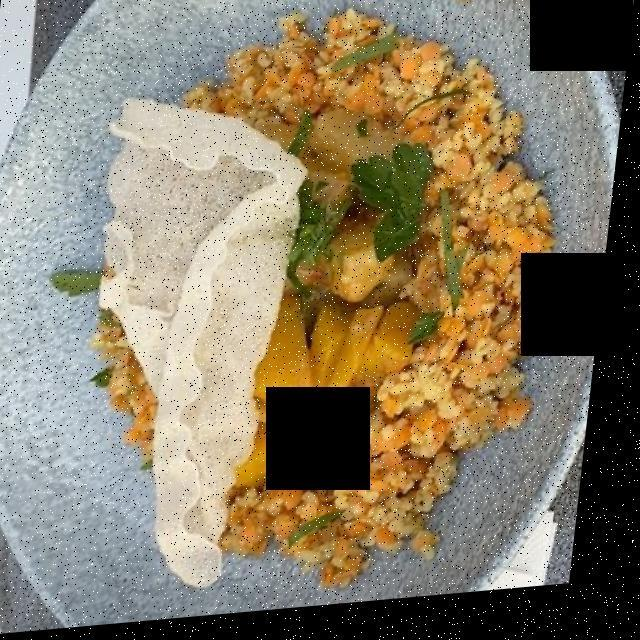curry-vegetarian: (235, 112, 456, 520)
